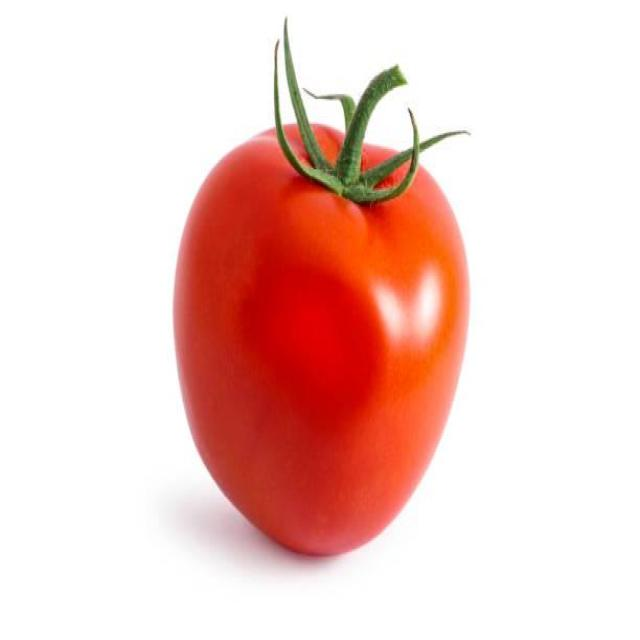Tomato: (173, 122, 466, 556)
